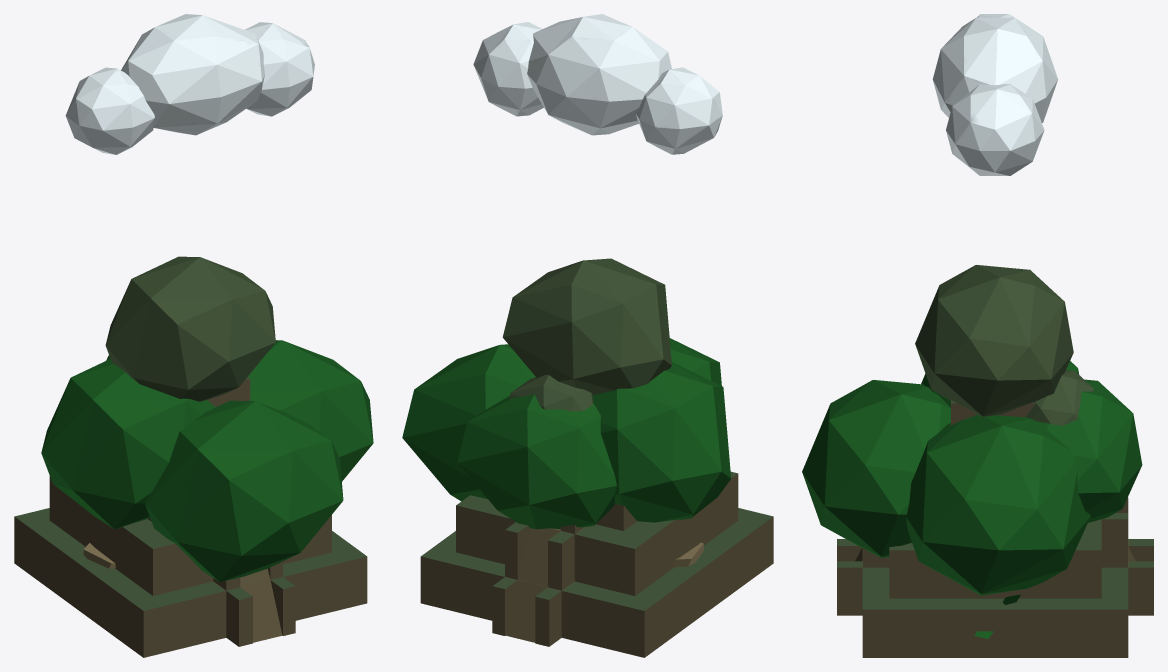
File: TreeGrassFlowerAndStone.fbx
3 renders of one model, left to right at view 1: azimuth 30°, elevation 25°; view 2: azimuth 150°, elevation 25°; view 3: azimuth 270°, elevation 25°, orthographic. The views are drawn at different scales.
Visible parts, largest first — view 1: Cylinder.002, Cube, Icosphere.001, Cylinder; view 2: Cylinder.002, Cube, Icosphere.001, Cylinder; view 3: Cylinder.002, Cube, Cylinder, Icosphere.001.
Part boxes in pixels (x1,y1,x2,y2): Cylinder.002: (41, 340, 373, 582); Cube: (14, 377, 367, 657); Icosphere.001: (65, 14, 314, 154); Cylinder: (105, 256, 275, 401); Cylinder.002: (402, 338, 731, 529); Cube: (420, 471, 773, 657); Icosphere.001: (473, 14, 722, 154); Cylinder: (502, 258, 671, 411); Cylinder.002: (802, 361, 1142, 595); Cube: (837, 400, 1153, 657); Cylinder: (915, 265, 1094, 425); Icosphere.001: (932, 14, 1058, 175).
Bounding box in the file's own units: 1414 × 2435 × 1321.
1 material, 1 textured.
